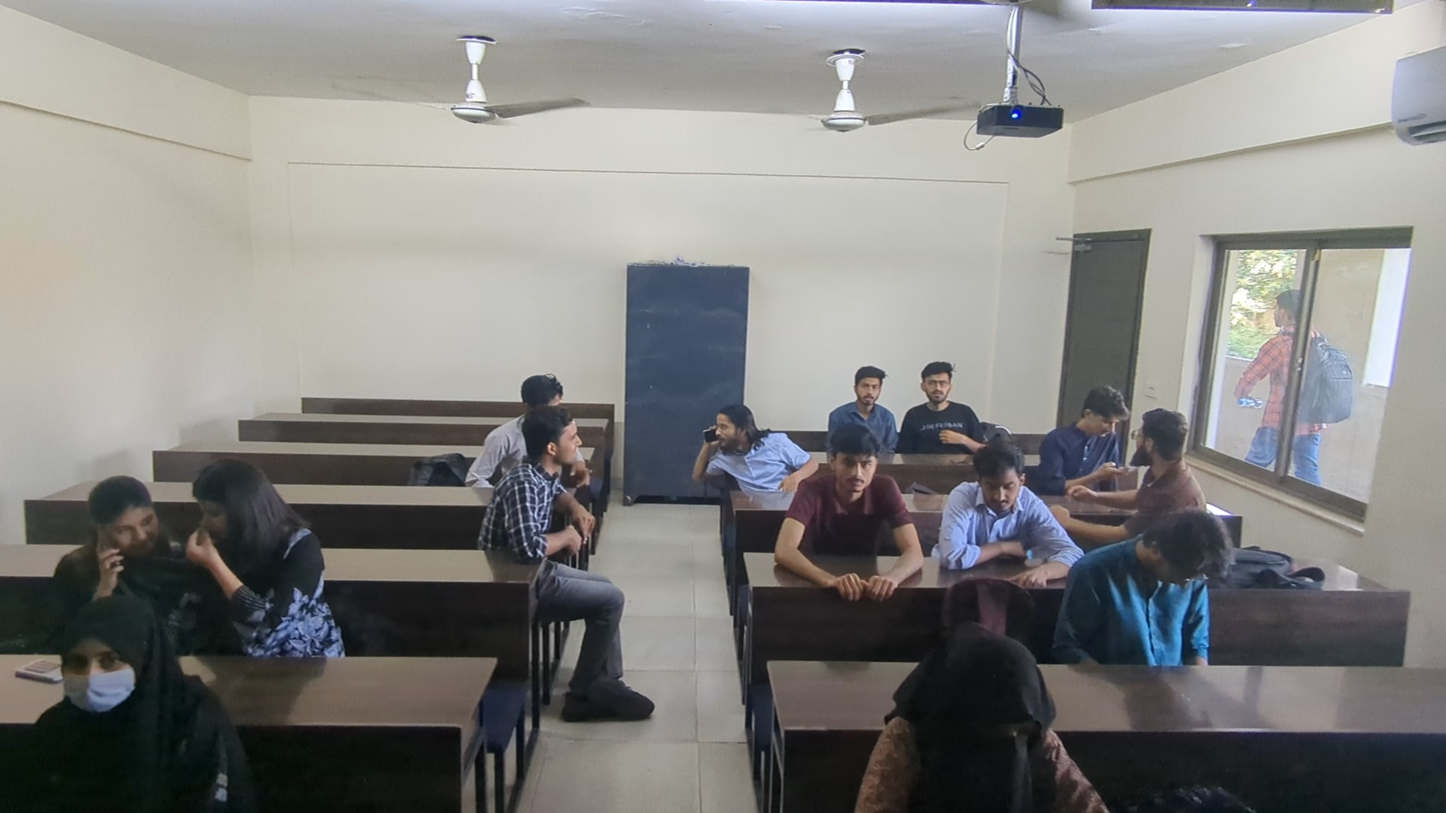look_forward: (20, 597, 252, 813), (771, 420, 925, 598), (903, 363, 988, 457), (836, 363, 892, 413)
turn_head: (189, 457, 345, 652), (935, 437, 1073, 581), (471, 405, 603, 554), (1128, 404, 1211, 504)
using_device: (855, 627, 1112, 813), (1045, 505, 1225, 665), (62, 460, 166, 589), (690, 399, 816, 490), (1043, 393, 1128, 495)
